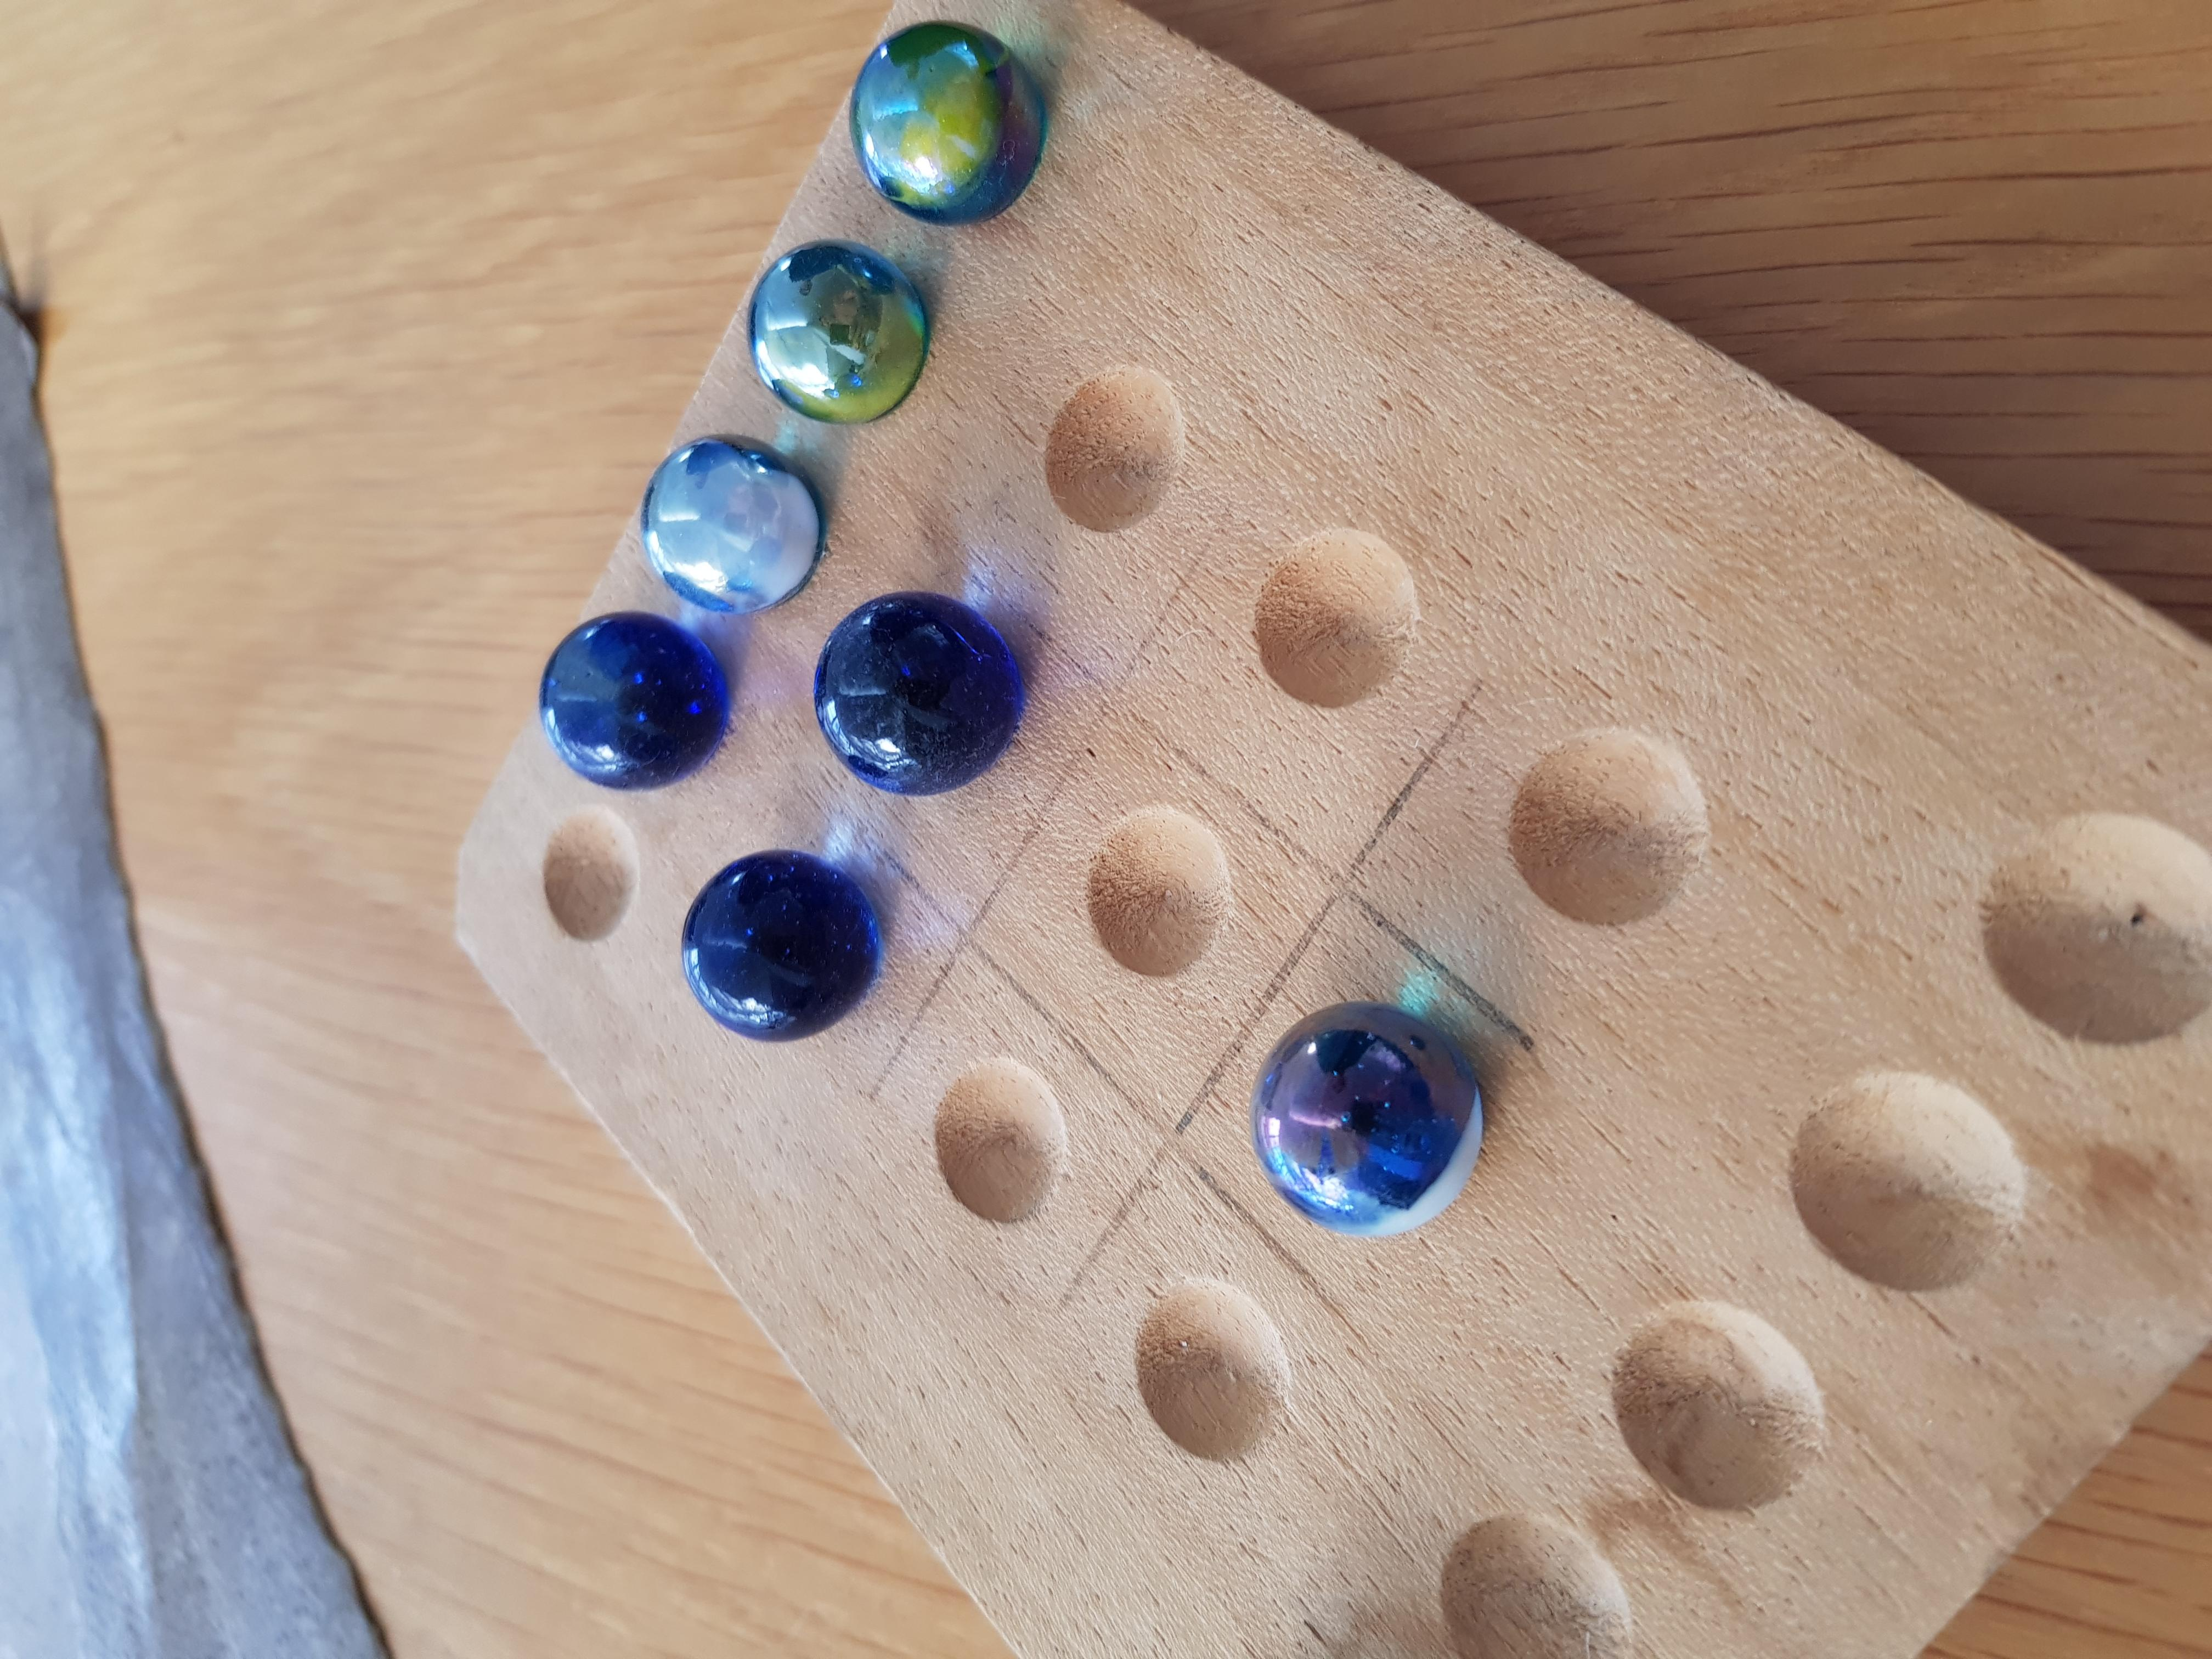sphere: (1240, 986, 1493, 1227), (812, 579, 1021, 803), (672, 849, 881, 1032), (852, 19, 1040, 206), (603, 453, 787, 640), (542, 608, 737, 777), (758, 242, 925, 408)
